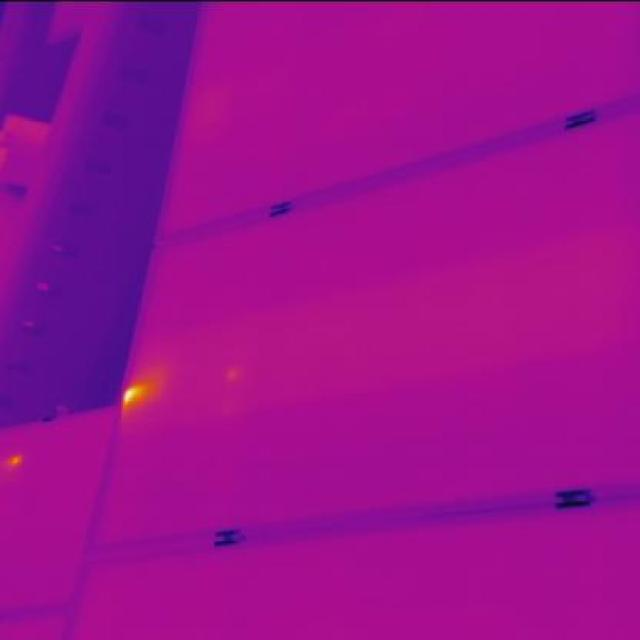hotspot: (118, 374, 160, 412)
